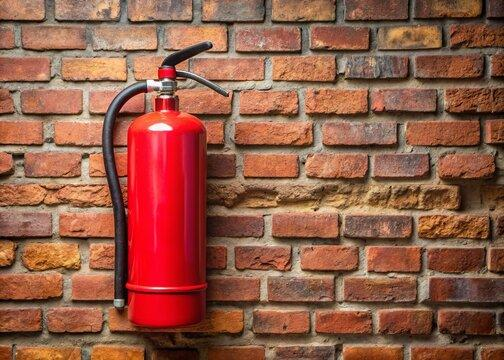wall-mounted: (68, 39, 245, 343)
